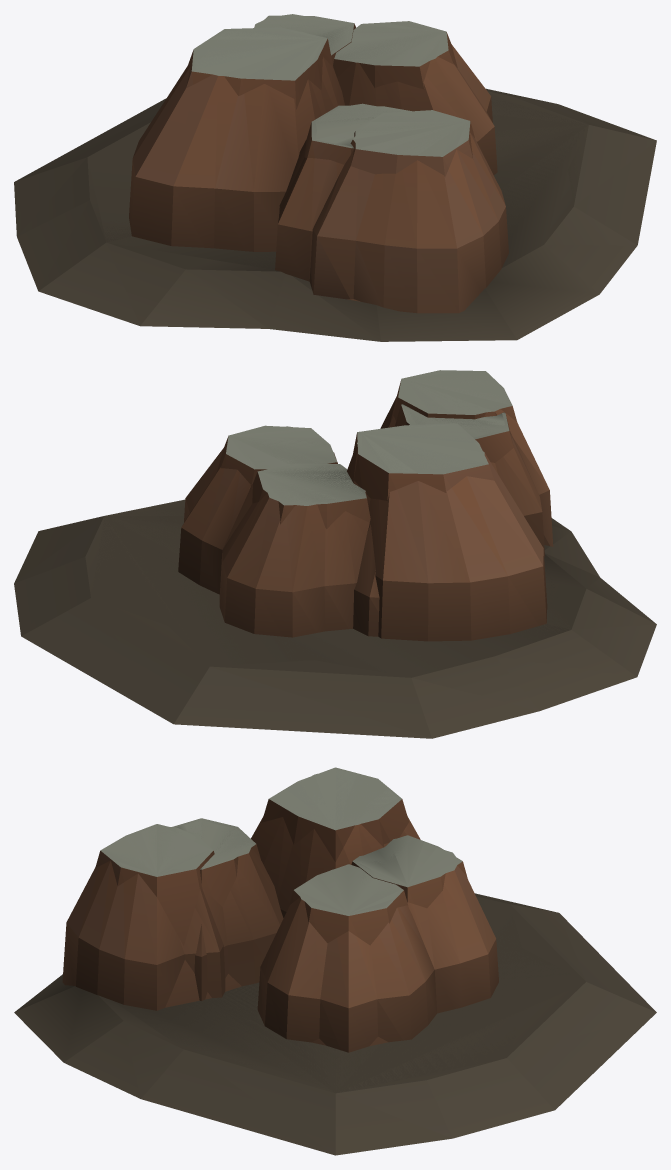
File: neutral_ore_field_stage_02.glb
The picture shows the model from 3 angles, top to bottom: view 1: azimuth 30°, elevation 25°; view 2: azimuth 150°, elevation 25°; view 3: azimuth 270°, elevation 25°; orthographic projection. The views are drawn at different scales.
Visible parts, largest first — view 1: body (×3); view 2: body (×3); view 3: body (×3).
Part boxes in pixels (left/top/right/bottom): body (×3): left=14, top=14, right=656, bottom=341; body (×3): left=14, top=370, right=656, bottom=738; body (×3): left=14, top=767, right=656, bottom=1155.
Size of the model in its own units: 2.4 by 0.677 by 2.28.
